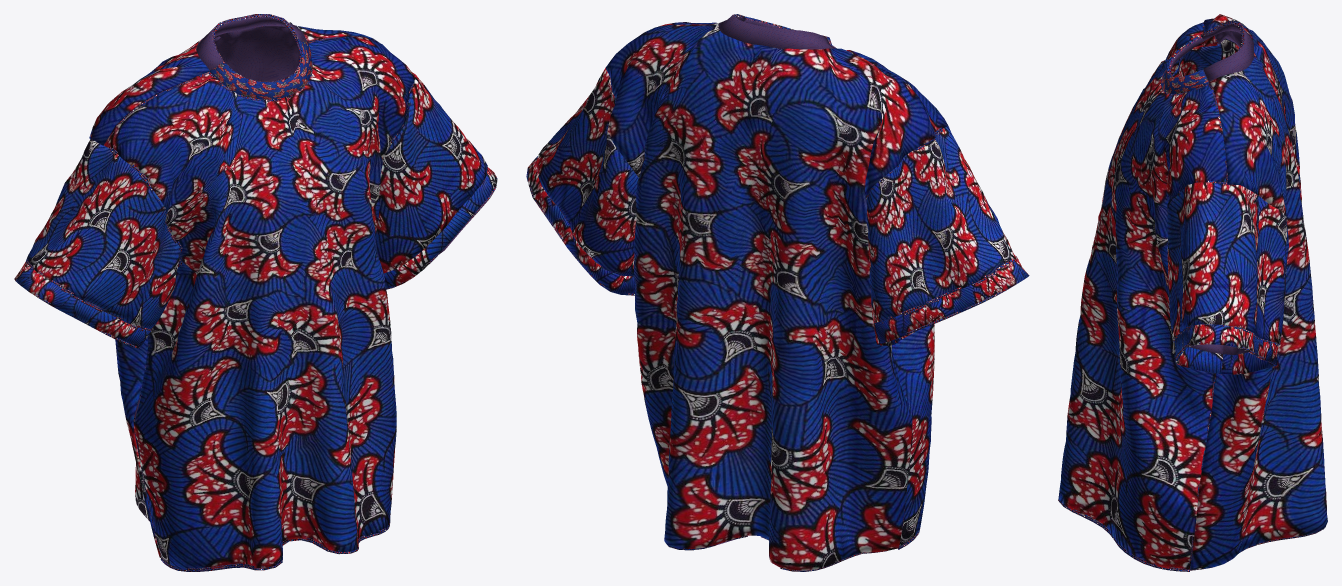
File: cloak.glb
3 views of the same model, side by side, from view 1: azimuth 30°, elevation 25°; view 2: azimuth 150°, elevation 25°; view 3: azimuth 270°, elevation 25° (orthographic). The views are drawn at different scales.
Parts seen in each view (by area): view 1: all; view 2: all; view 3: all.
Boxes of the visible parts, box(x1,y1,x2,y2) form: all: box(14, 14, 497, 571); all: box(526, 14, 1029, 571); all: box(1058, 14, 1327, 571).
Bounding box in the file's own units: 0.6568 × 0.6627 × 0.3333.
Materials: 1 (1 with a texture image).
